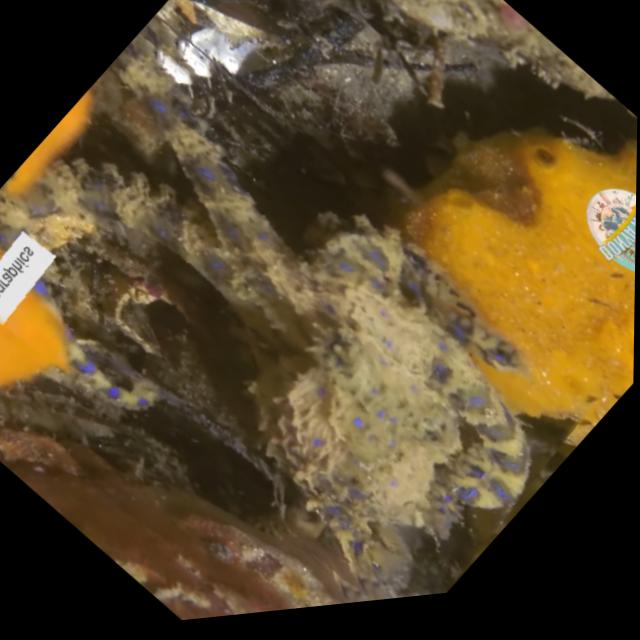blue_ringed_octopus: (0, 0, 620, 640)
